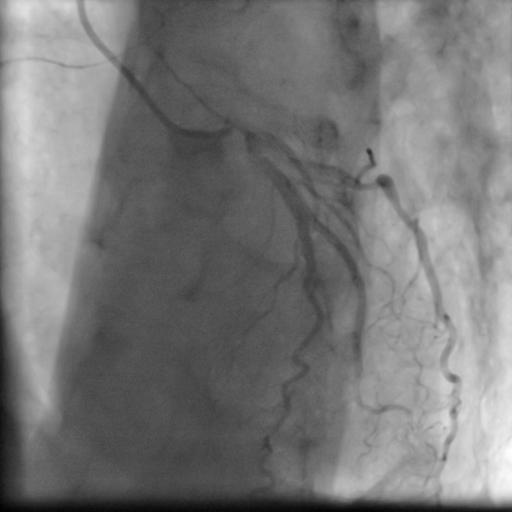Stenosis: (351, 170, 379, 197)
